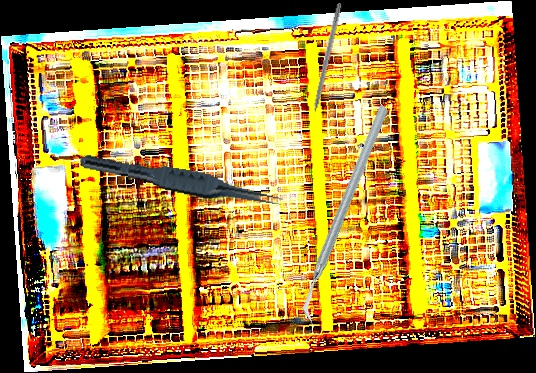Chopper: (234, 102, 458, 326)
Hook Surgical: (307, 2, 343, 127)
Tissue Forceps: (77, 152, 286, 212)
